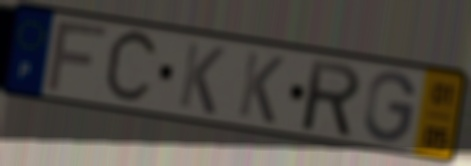C: (100, 27, 162, 108)
F: (42, 19, 112, 96)
G: (362, 69, 419, 145)
K: (175, 38, 228, 118), (235, 47, 287, 127)
R: (301, 56, 364, 141)
